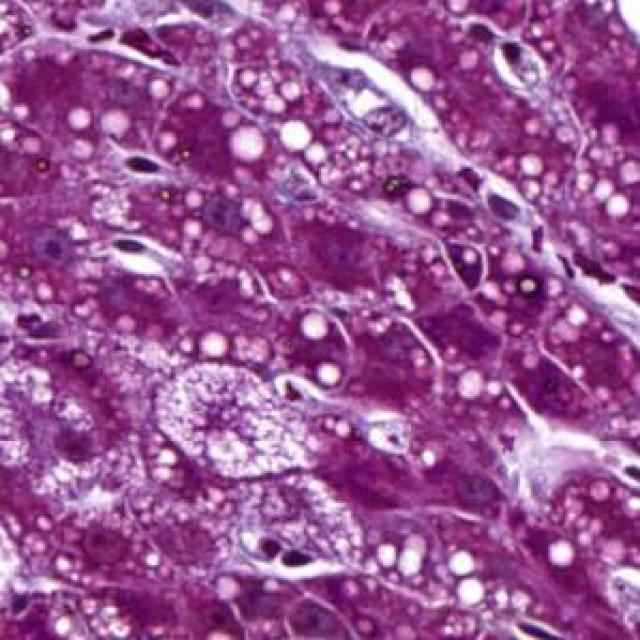ballooning: (148, 360, 316, 488)
